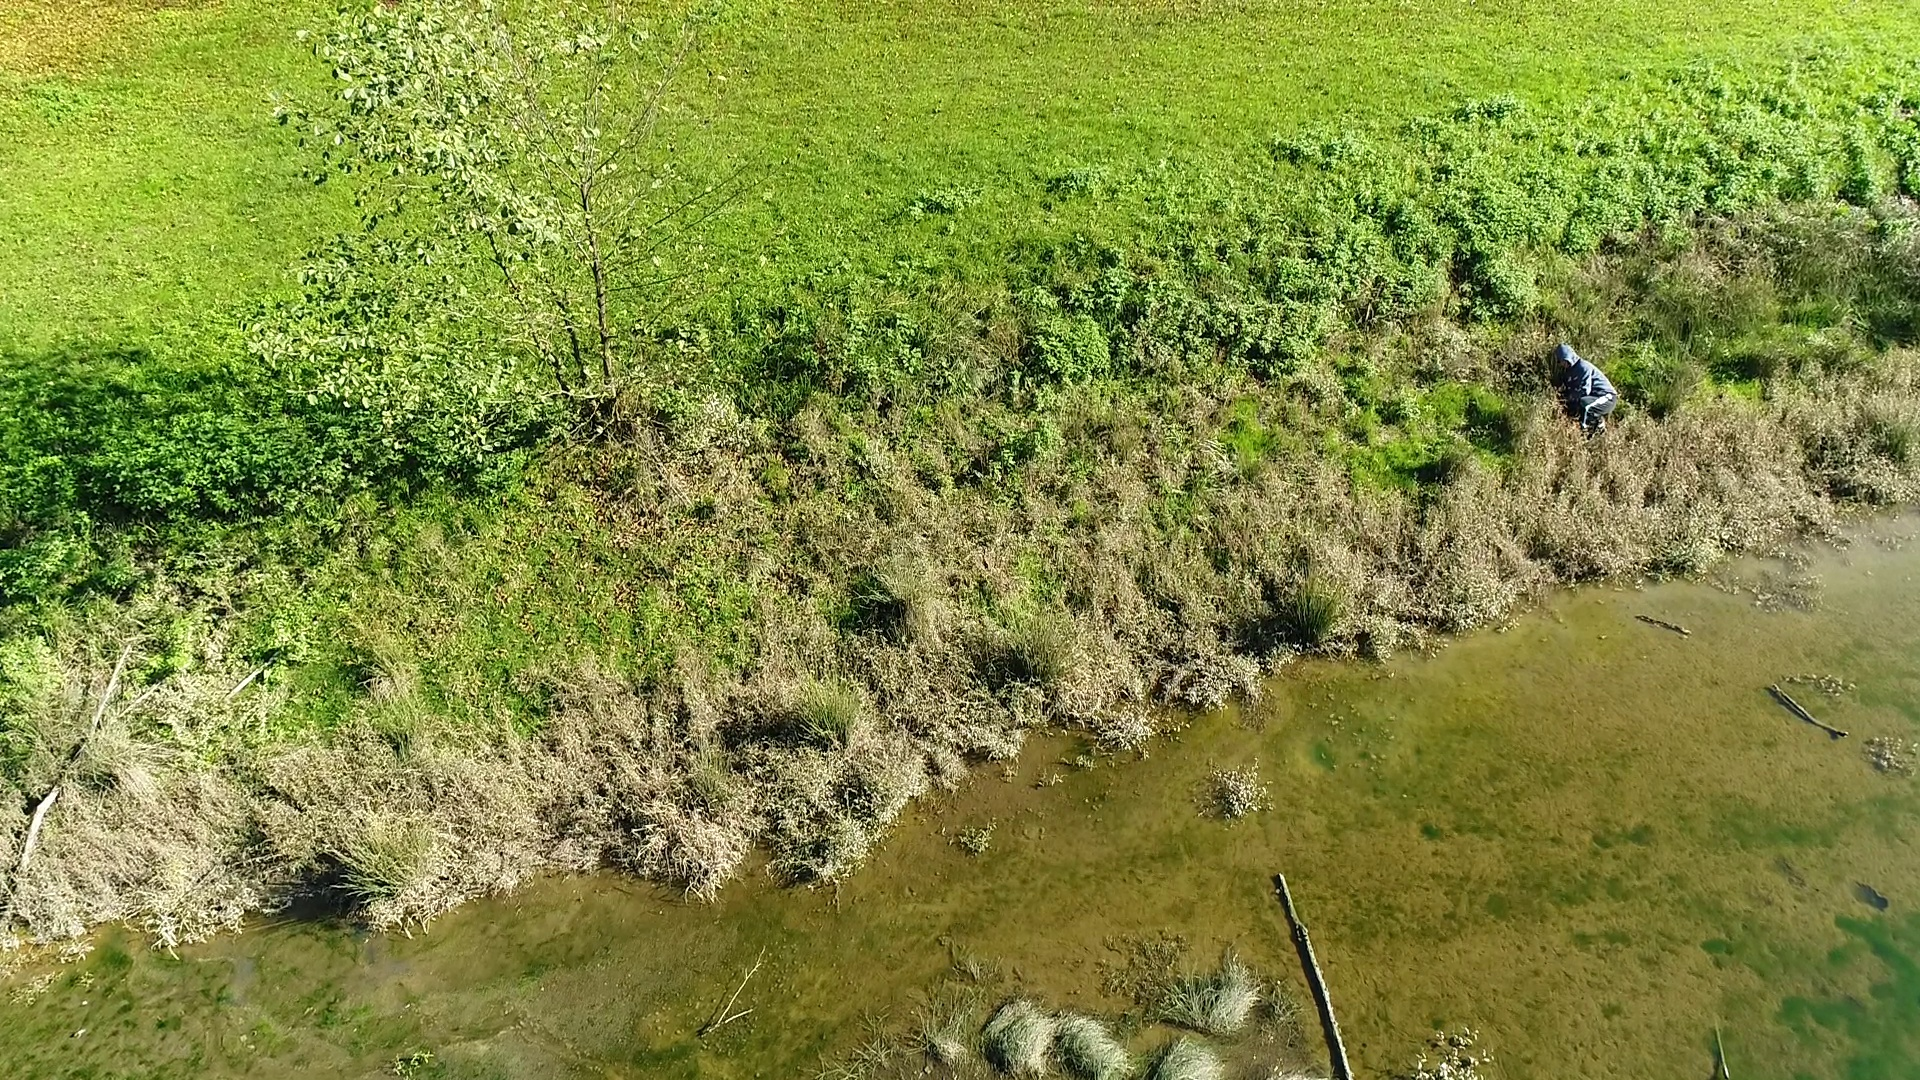not_defined: (1553, 339, 1619, 442)
